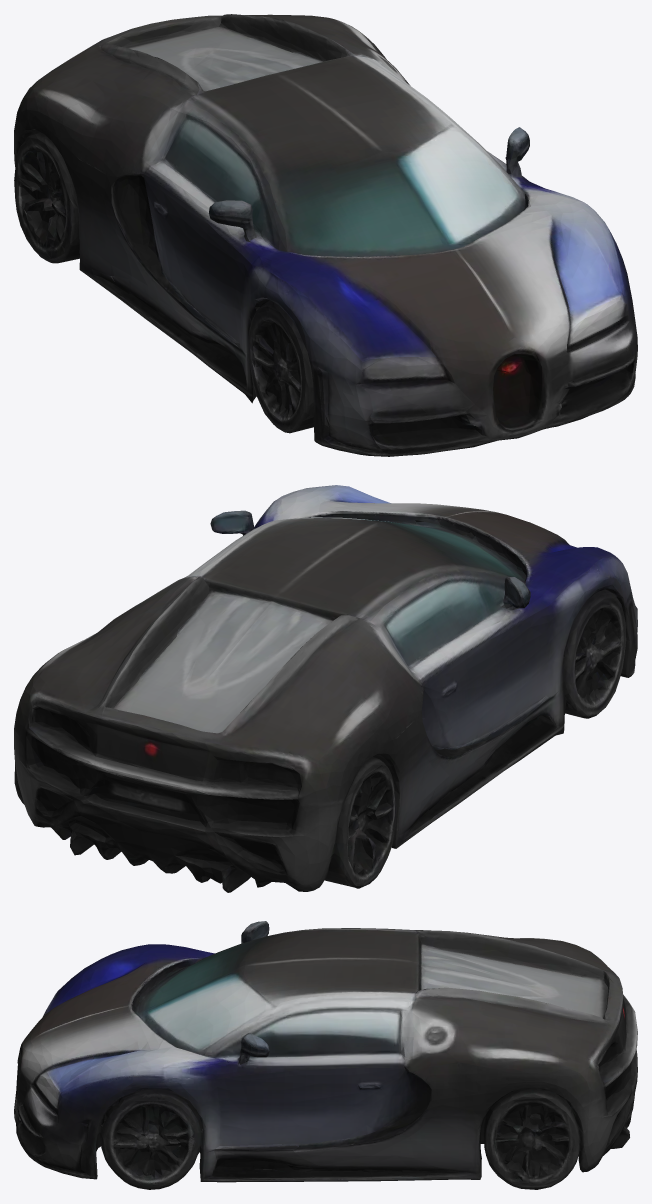
Rendered from 9fbfc1ba-228e-48a4-b140-626aff8e1aec.glb.
The picture shows the model from 3 angles, top to bottom: view 1: azimuth 30°, elevation 25°; view 2: azimuth 150°, elevation 25°; view 3: azimuth 270°, elevation 25°; orthographic projection. The views are drawn at different scales.
Visible parts, largest first — view 1: geometry_0; view 2: geometry_0; view 3: geometry_0.
Boxes of the visible parts, <box> form: geometry_0: <box>14,14,637,456</box>; geometry_0: <box>14,485,637,892</box>; geometry_0: <box>14,921,637,1189</box>.
Bounding box in the file's own units: 0.5053 × 0.2958 × 0.9975.
Materials: 1 (1 with a texture image).
